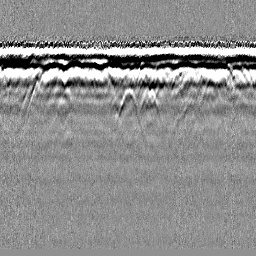cavity: (116, 87, 140, 122)
